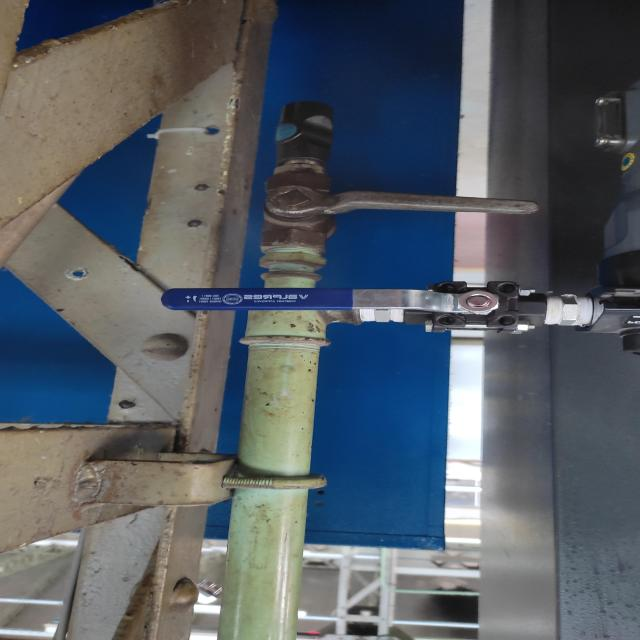closed_valve: (262, 168, 542, 249)
opened_valve: (158, 278, 537, 337)
